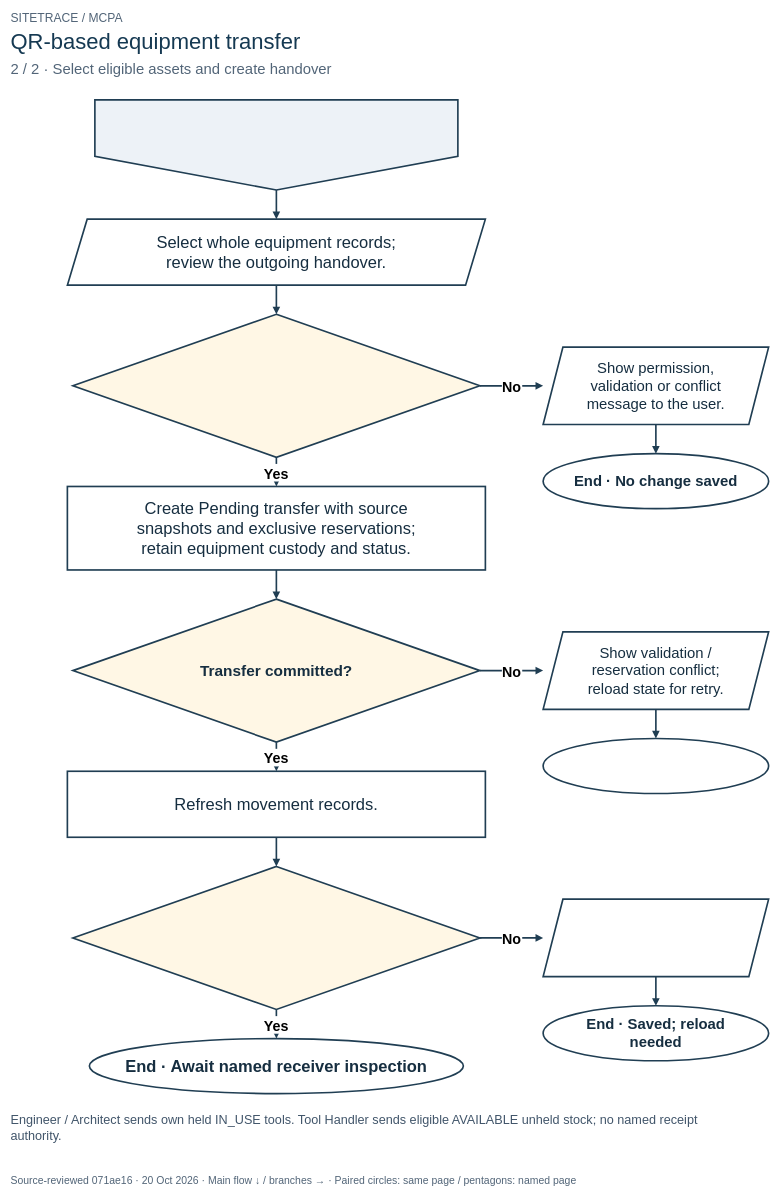
The diagram is 779 pixels wide and 1198 high, and some of its shapes have lost their labels. The centre of each missing label's shape, as x and y in pixels:
"B · From page 1 Named receiver and destination" goes at (276,145).
"End · No transfer saved" goes at (655,765).
"Records refreshed?" goes at (276,937).
"Sender, destination and assets eligible?" goes at (276,385).
"Show saved-success warning. Block new changes until reload." goes at (655,937).
